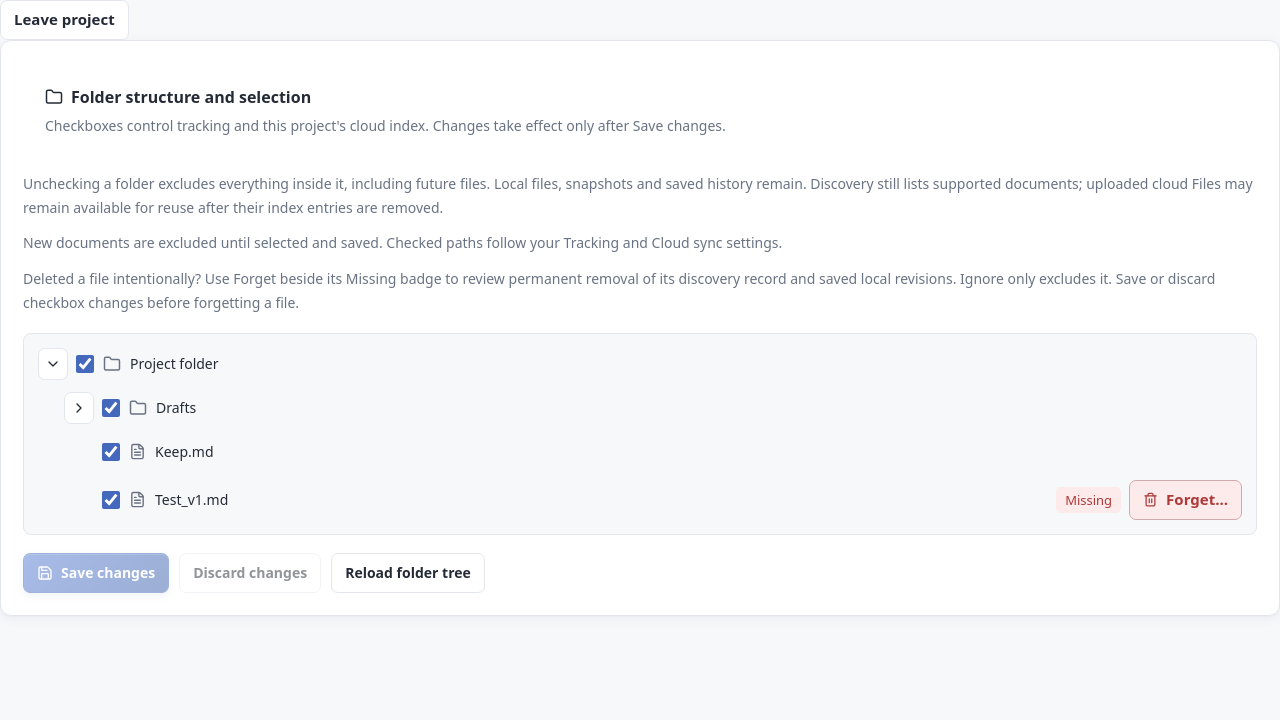
it: shows retained-history blockers and prevents permanent removal
Expected: the checkbox named "Include Drafts" is enabled, [102,399,120,417]
Click the button with aria-label "Forget missing Test_v1.md": click(1186, 500) [1129,480,1242,520]
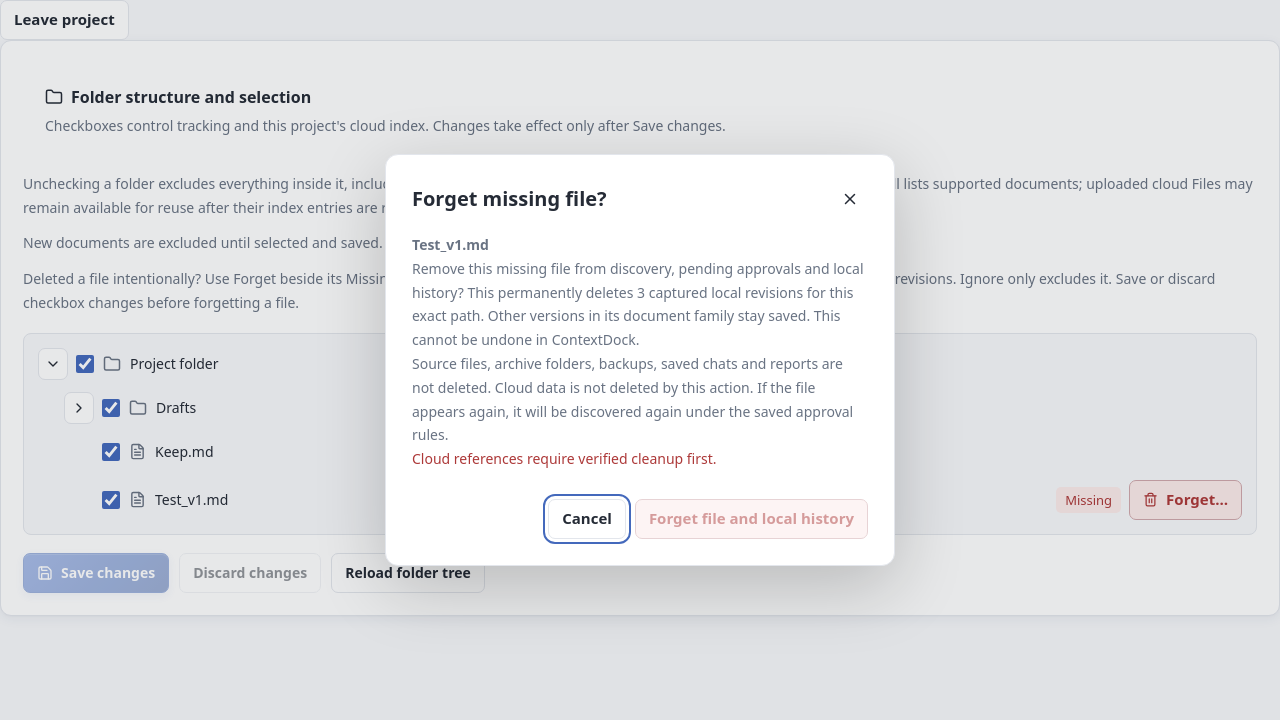
Expected: the dialog "Forget missing file?" shows "3 captured local revisions", [385,154,895,566]
Expected: the button "Forget file and local history" is disabled, [635,499,868,539]
